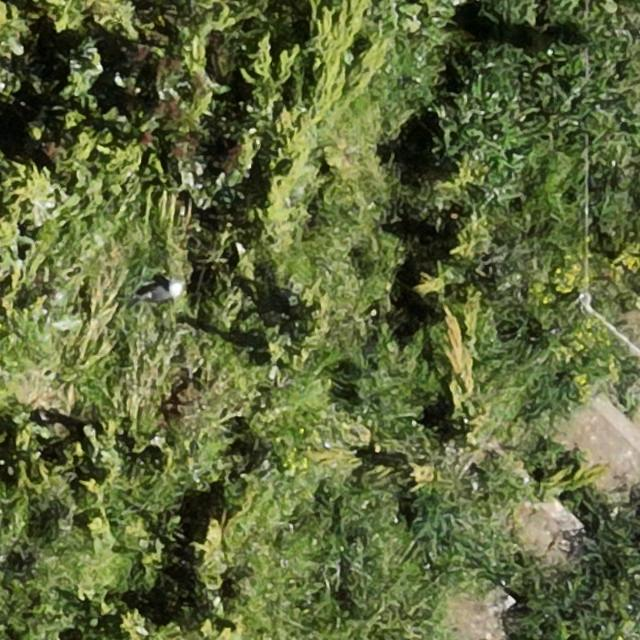umineko: (143, 282, 182, 302)
